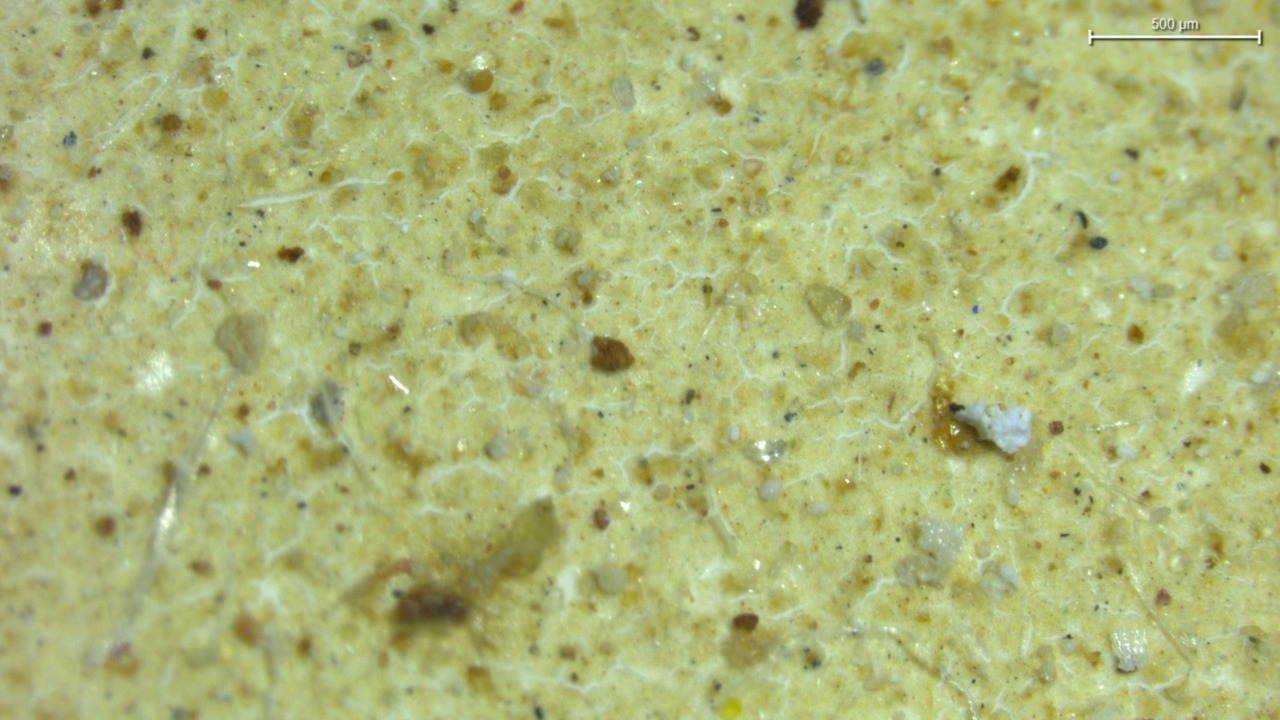microplastic_fragment: (954, 401, 1033, 454), (217, 311, 268, 374), (1114, 629, 1145, 675)
